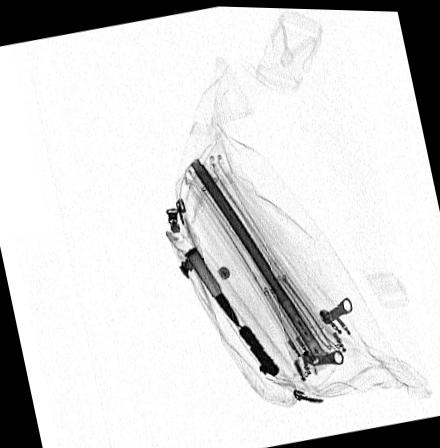Bullet: (182, 246, 238, 326)
Gun: (239, 324, 279, 375)
